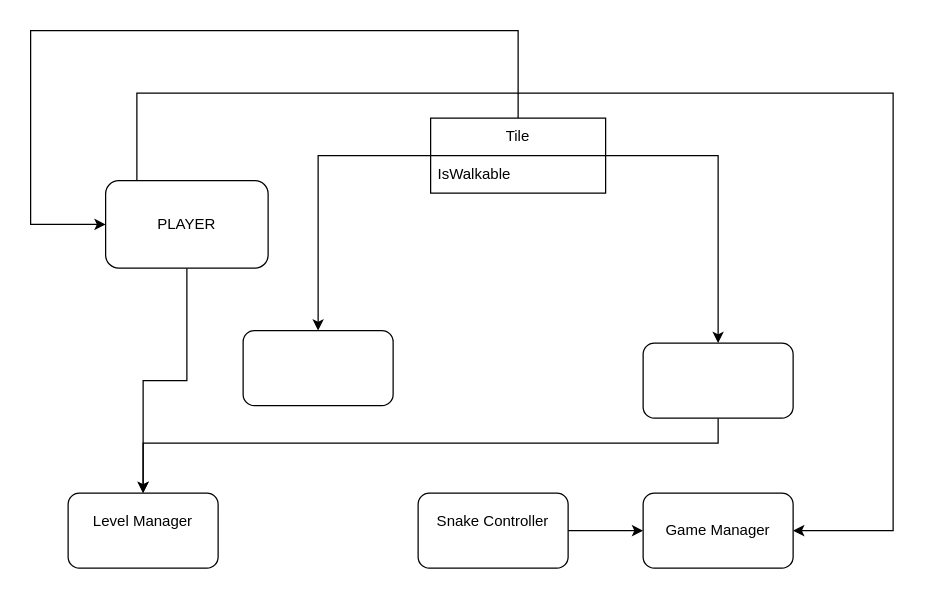
Image size: 925x590. Some labels were removed from this diagram. The centre of each missing label's shape, as x and y in pixels:
Interactable: (x=317, y=367)
Timer: (x=717, y=380)
